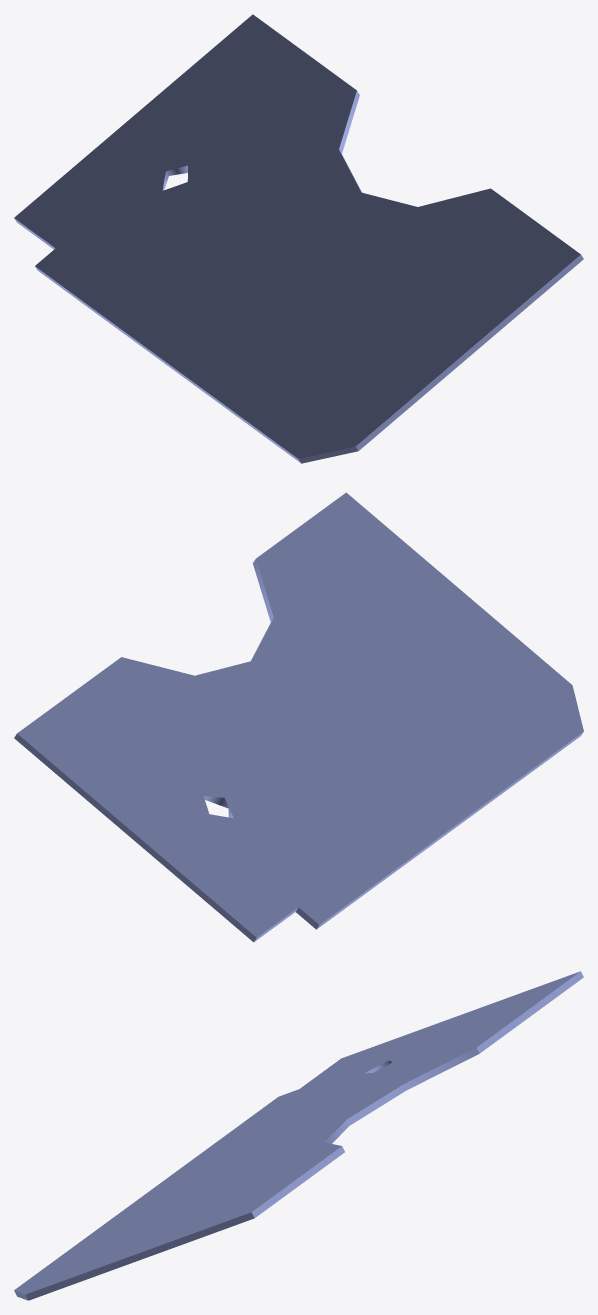
The model's file is Copie de Pale moulin 1^Copie de ASS Moulin_Horloge Comtoise Verge - Sonnerie.obj.
The picture shows the model from 3 angles, top to bottom: view 1: azimuth 30°, elevation 25°; view 2: azimuth 150°, elevation 25°; view 3: azimuth 330°, elevation 25°; orthographic projection.
Parts seen in each view (by area): view 1: Face_1, Face_8, Face_6; view 2: Face_1, Face_3, Face_6; view 3: Face_1, Face_8, Face_10, Face_11, Face_9.
Part boxes in pixels (<box>): Face_1: <box>14,14,580,458</box>; Face_8: <box>355,255,583,450</box>; Face_6: <box>35,266,300,462</box>; Face_1: <box>17,492,583,937</box>; Face_3: <box>14,734,256,942</box>; Face_6: <box>317,732,583,928</box>; Face_1: <box>14,971,580,1294</box>; Face_8: <box>25,1212,254,1300</box>; Face_10: <box>324,1047,479,1143</box>; Face_11: <box>476,971,583,1053</box>; Face_9: <box>251,1146,344,1217</box>.
Size of the model in its own units: 0.0219 by 0.013 by 0.0473.
